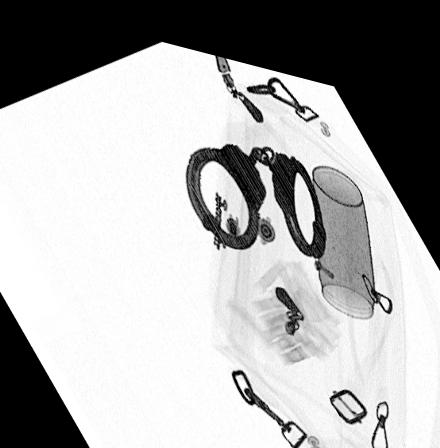HandCuffs: (182, 127, 327, 244)
